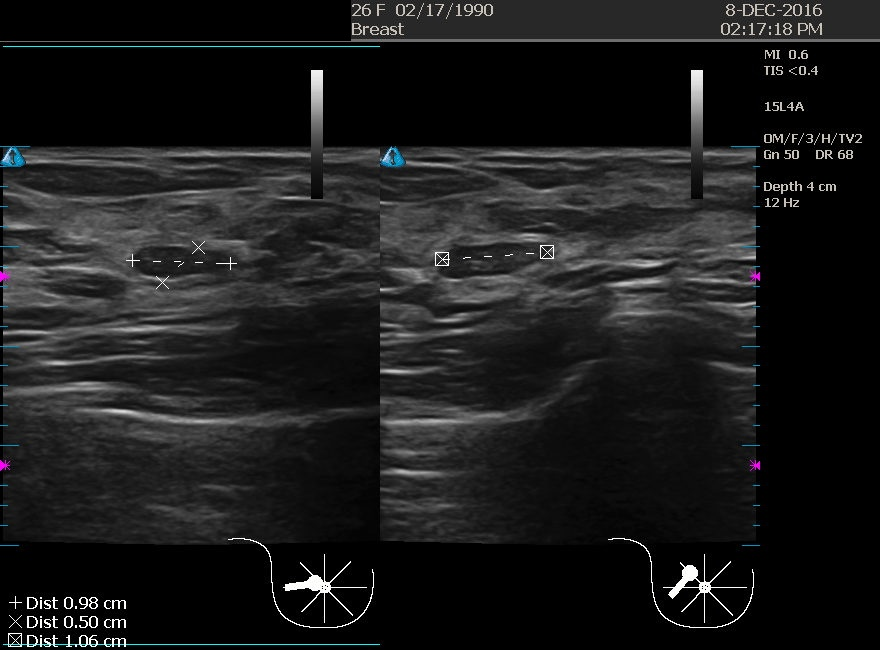BIRADS_3: (85, 165, 277, 357)
